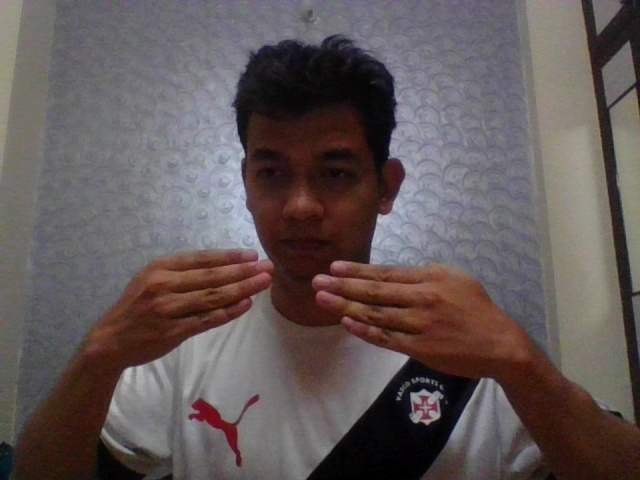Thankyou: (111, 247, 507, 382)
